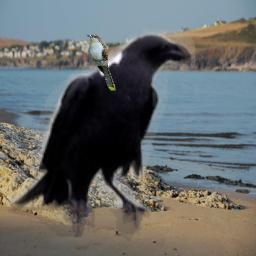Crow: (4, 29, 195, 246)
Cuckoo: (87, 34, 116, 91)
